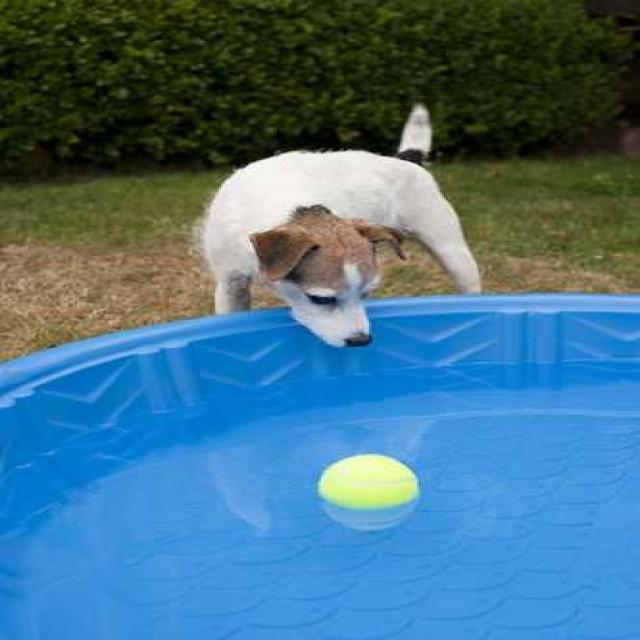Tennis_Ball: (324, 451, 418, 514)
